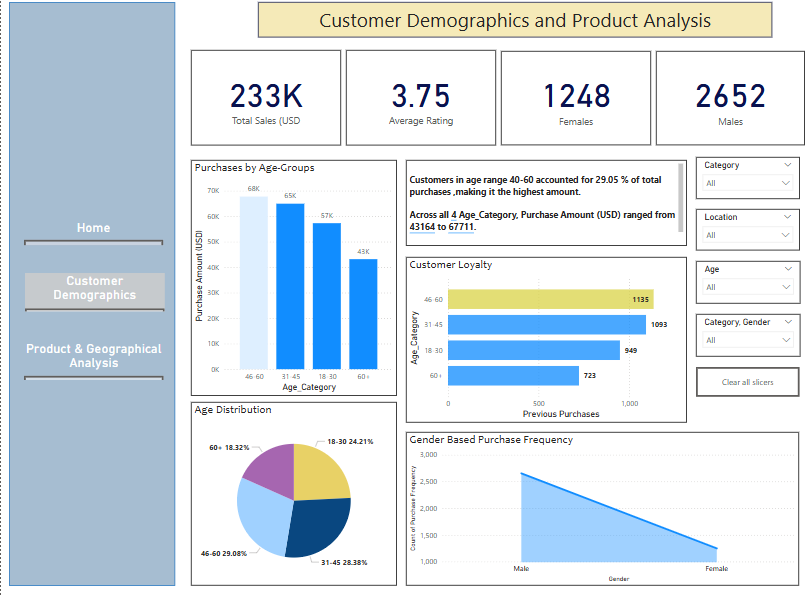

The page's visual inventory and layout, read from the dashboard file:
{"tool":"powerbi","page":{"name":"Customer","canvas":[1350,1000],"ordinal":1},"visuals":[{"type":"slicer","fields":{"Values":["Sales Report.Category"]},"box":[1158,262.2,173.3,70],"z":0,"group":"g1"},{"type":"barChart","title":"Customer Loyalty","fields":{"Category":["Sales Report.Age_Category"],"Y":["CountNonNull(Sales Report.Previous Purchases)"]},"box":[674.7,427.9,467.9,275.6],"z":0},{"type":"columnChart","title":"Purchases by Age-Groups","fields":{"Category":["Sales Report.Age_Category"],"Y":["Sum(Sales Report.Purchase Amount (USD))"]},"box":[317.3,266,342.9,392.6],"z":1000},{"type":"slicer","fields":{"Values":["Sales Report.Location"]},"box":[1158.3,349.7,172.7,68.9],"z":1000,"group":"g1"},{"type":"slicer","fields":{"Values":["Sales Report.Age"]},"box":[1157.6,436,174.1,70.5],"z":2000,"group":"g1"},{"type":"textbox","box":[1259.6,490.4,25.6,123.4],"z":2000},{"type":"textbox","box":[427.9,3.2,857.4,59.3],"z":3000},{"type":"slicer","fields":{"Values":["Sales Report.Category","Sales Report.Gender"]},"box":[1157.6,524,174.1,70.5],"z":3000,"group":"g1"},{"type":"shape","box":[12.8,3.2,277.2,972.8],"z":4000},{"type":"actionButton","box":[1158.3,612,172.7,49.7],"z":4000,"group":"g1"},{"type":"actionButton","title":"Customer Demographics","box":[39.6,455.6,232.6,64],"z":5000},{"type":"actionButton","title":"Home","box":[39,367.1,232,42],"z":6000},{"type":"actionButton","title":"Product & Geographical Analysis","box":[38,568,232.6,64.9],"z":7000},{"type":"pieChart","title":"Age Distribution","fields":{"Category":["Sales Report.Age_Category"],"Y":["Sum(Sales Report.Customer ID)"]},"box":[317.3,669.9,342.9,306.1],"z":8000},{"type":"areaChart","title":"Gender Based Purchase Frequency","fields":{"Category":["Sales Report.Gender"],"Y":["CountNonNull(Sales Report.Purchase Frequency)"]},"box":[674.7,719.6,655.4,256.4],"z":9000},{"type":"group","id":"g1","title":"Group 1","box":[1157.6,262.2,174.7,399],"z":9505,"group":"g2"},{"type":"card","fields":{"Values":["Sum(Sales Report.Purchase Amount (USD))"]},"box":[317.2,83.7,250,158.7],"z":10000},{"type":"card","fields":{"Values":["Avg(Sales Report.Review Rating)"]},"box":[575.3,83.7,250,158.7],"z":11000},{"type":"card","fields":{"Values":["CountNonNull(Sales Report.Gender)"]},"box":[833.3,84.5,250,157.1],"z":12000},{"type":"card","fields":{"Values":["CountNonNull(Sales Report.Gender)"]},"box":[1091.3,84.5,248.4,157.1],"z":13000},{"type":"group","id":"g2","title":"Group 2","box":[1157.6,262.2,174.7,399],"z":14000},{"type":"textbox","box":[674.7,266,467.9,142.6],"z":15000}]}

Visuals, with their boxes in screenshot pixels (x1, y1, x2, y2), scaled from the page's 1350x1000 canvas onto the 811x597 screenshot:
slicer - Sales Report.Category: left=696, top=157, right=800, bottom=198
"Customer Loyalty" barChart: left=405, top=255, right=686, bottom=420
"Purchases by Age-Groups" columnChart: left=191, top=159, right=397, bottom=393
slicer - Sales Report.Location: left=696, top=209, right=800, bottom=250
slicer - Sales Report.Age: left=695, top=260, right=800, bottom=302
textbox: left=757, top=293, right=772, bottom=366
textbox: left=257, top=2, right=772, bottom=37
slicer - Sales Report.Category x Sales Report.Gender: left=695, top=313, right=800, bottom=355
shape: left=8, top=2, right=174, bottom=583
actionButton: left=696, top=365, right=800, bottom=395
"Customer Demographics" actionButton: left=24, top=272, right=164, bottom=310
"Home" actionButton: left=23, top=219, right=163, bottom=244
"Product & Geographical Analysis" actionButton: left=23, top=339, right=163, bottom=378
"Age Distribution" pieChart: left=191, top=400, right=397, bottom=583
"Gender Based Purchase Frequency" areaChart: left=405, top=430, right=799, bottom=583
"Group 1" group: left=695, top=157, right=800, bottom=395
card - Sum(Sales Report.Purchase Amount (USD)): left=191, top=50, right=341, bottom=145
card - Avg(Sales Report.Review Rating): left=346, top=50, right=496, bottom=145
card - CountNonNull(Sales Report.Gender): left=501, top=50, right=651, bottom=144
card - CountNonNull(Sales Report.Gender): left=656, top=50, right=805, bottom=144
"Group 2" group: left=695, top=157, right=800, bottom=395
textbox: left=405, top=159, right=686, bottom=244
